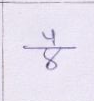ai_matra: (42, 29, 60, 46)
